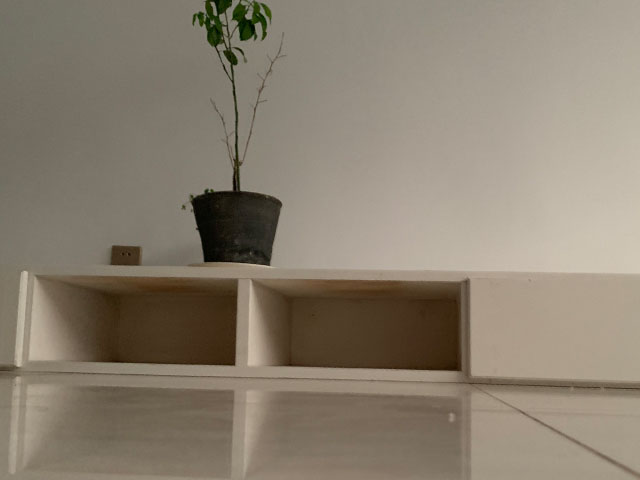cabinet: (12, 264, 640, 390)
